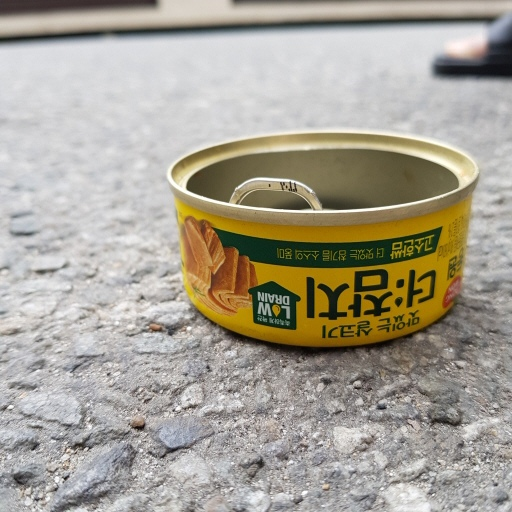Metal_1: (168, 129, 482, 350)
